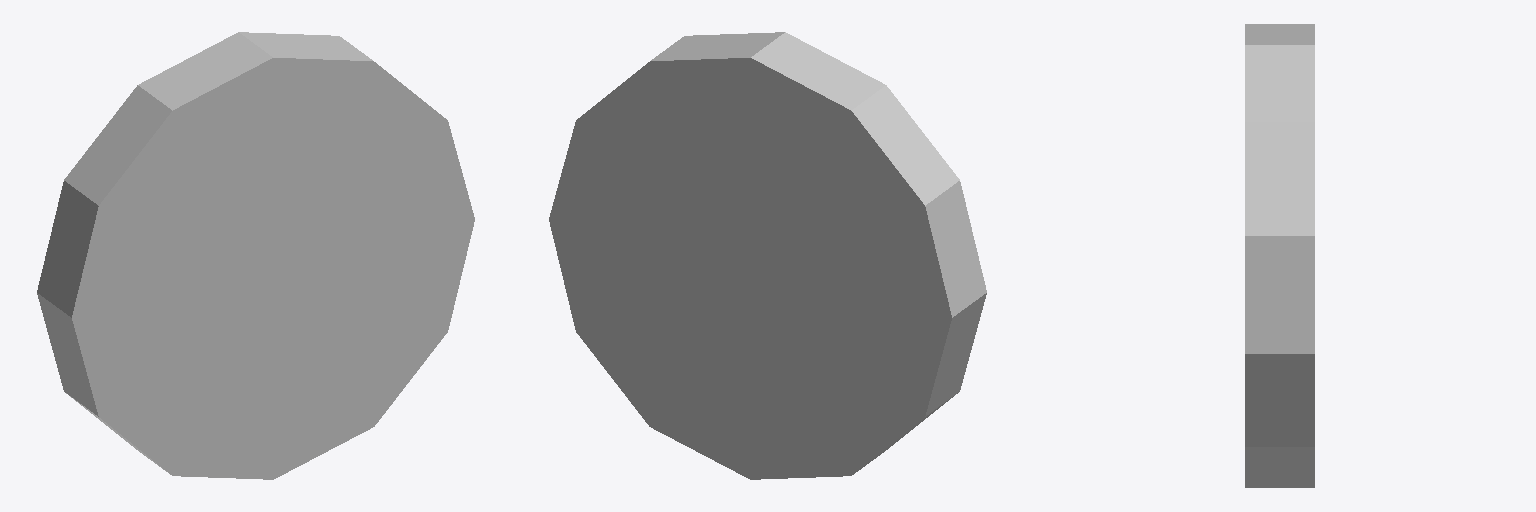
File: tinker (4).obj
The picture shows the model from 3 angles: view 1: azimuth 30°, elevation 25°; view 2: azimuth 150°, elevation 25°; view 3: azimuth 270°, elevation 25°; orthographic projection.
Visible parts, largest first — view 1: obj_0; view 2: obj_0; view 3: obj_0.
Part boxes in pixels (bbox=[...]): obj_0: bbox=[37, 32, 474, 479]; obj_0: bbox=[549, 32, 986, 479]; obj_0: bbox=[1245, 24, 1314, 487].
Bounding box in the file's own units: 20 × 20 × 3.